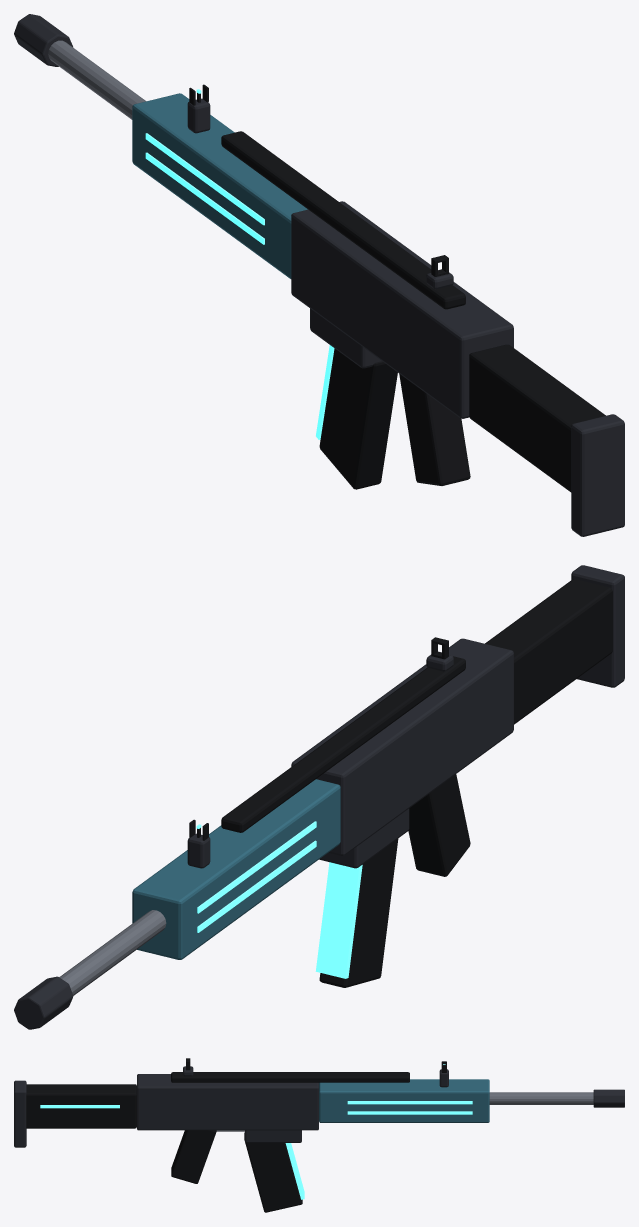
3 renders of one model, top to bottom at view 1: azimuth 30°, elevation 25°; view 2: azimuth 150°, elevation 25°; view 3: azimuth 270°, elevation 25°, orthographic. The views are drawn at different scales.
Parts seen in each view (by area): view 1: Body, Magazine, IronSights; view 2: Body, Magazine, IronSights; view 3: Body, Magazine, IronSights.
Boxes of the visible parts, box(x1,y1,x2,y2) form: Body: box(14, 14, 624, 536); Magazine: box(316, 345, 397, 489); IronSights: box(187, 84, 453, 289); Body: box(14, 565, 624, 1029); Magazine: box(315, 838, 398, 987); IronSights: box(187, 637, 453, 868); Body: box(14, 1072, 624, 1183); Magazine: box(244, 1132, 304, 1212); IronSights: box(183, 1058, 448, 1087).
Size of the model in its own units: 0.058 by 0.2905 by 1.07.
